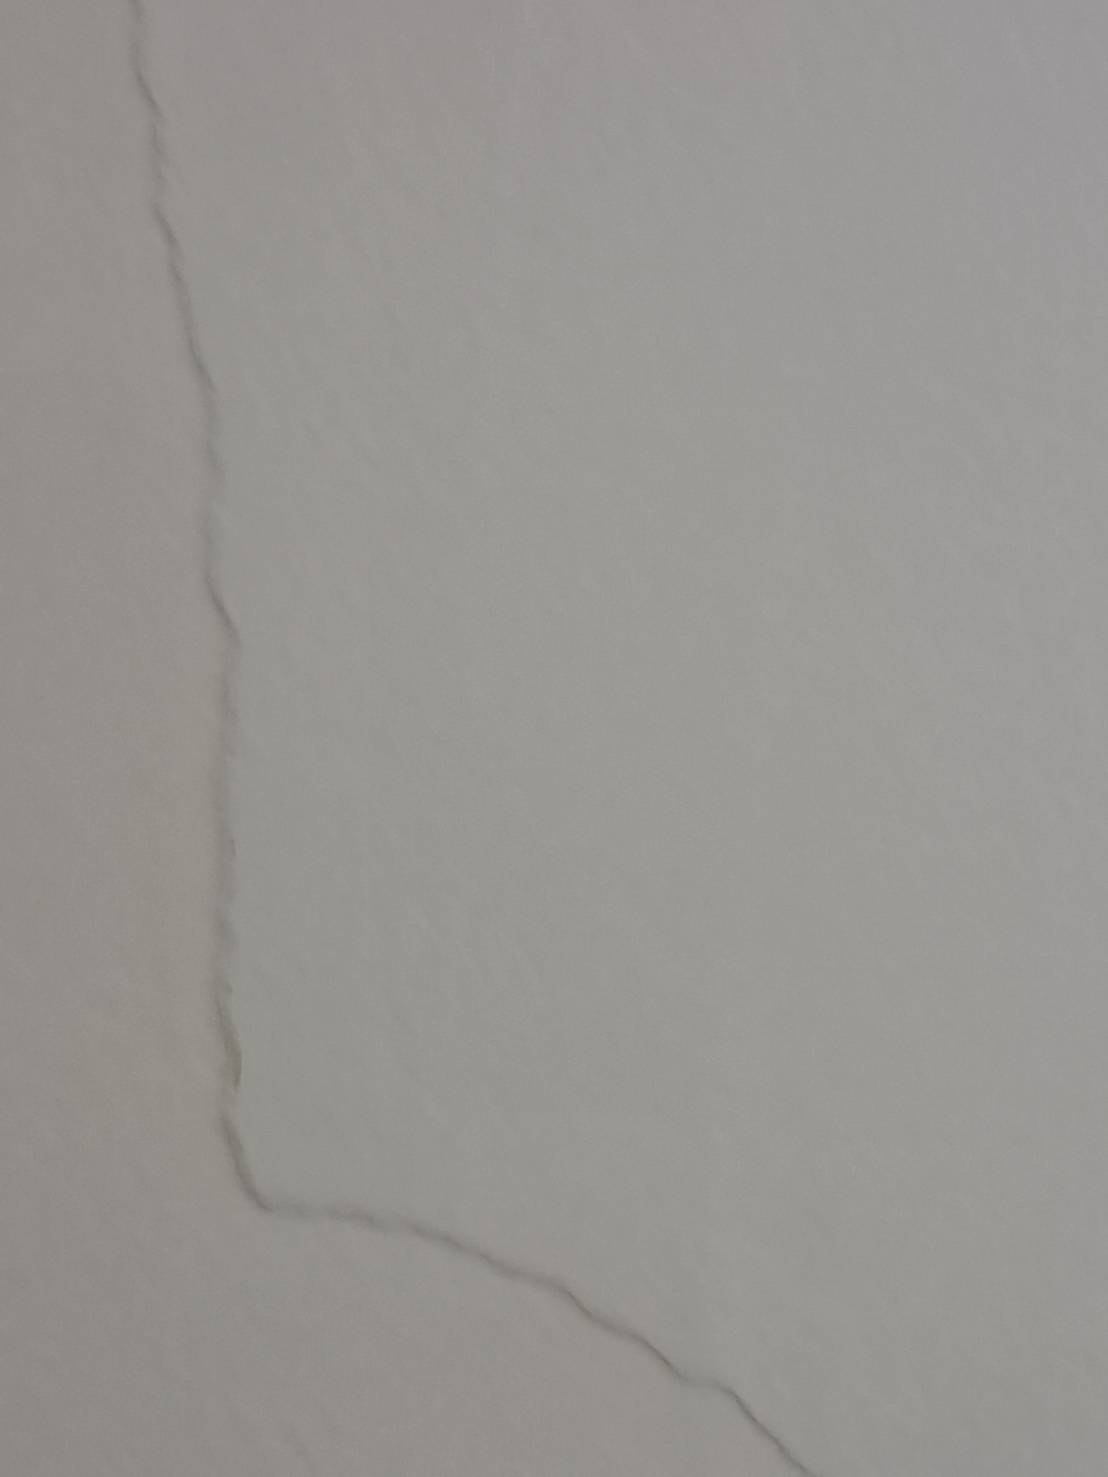Low: (111, 2, 865, 1477)
